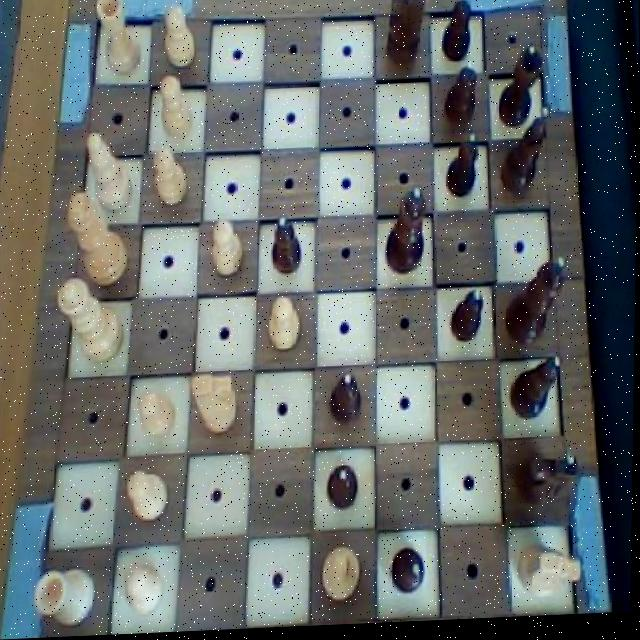bishop: (499, 108, 555, 203), (509, 357, 567, 428)
black-bishop: (502, 255, 573, 353)
black-king: (518, 455, 586, 518), (384, 0, 429, 78)
black-knight: (440, 61, 488, 138), (443, 134, 484, 206), (438, 0, 477, 68), (388, 543, 430, 605), (270, 212, 307, 282), (327, 373, 369, 433), (442, 289, 486, 346), (325, 459, 363, 516)
black-pawn: (383, 189, 434, 282)
black-queen: (498, 47, 550, 136)
black-rook: (84, 130, 139, 217), (322, 545, 367, 608)
white-bishop: (66, 186, 133, 292)
white-king: (189, 370, 246, 445), (516, 546, 587, 606)
white-knight: (123, 466, 179, 533), (155, 73, 199, 147), (203, 214, 250, 283), (148, 143, 194, 213), (134, 381, 181, 447), (122, 557, 169, 618), (265, 292, 308, 358), (159, 4, 199, 74)
white-pawn: (54, 274, 128, 372)
white-queen: (31, 562, 102, 636), (94, 0, 147, 81)
